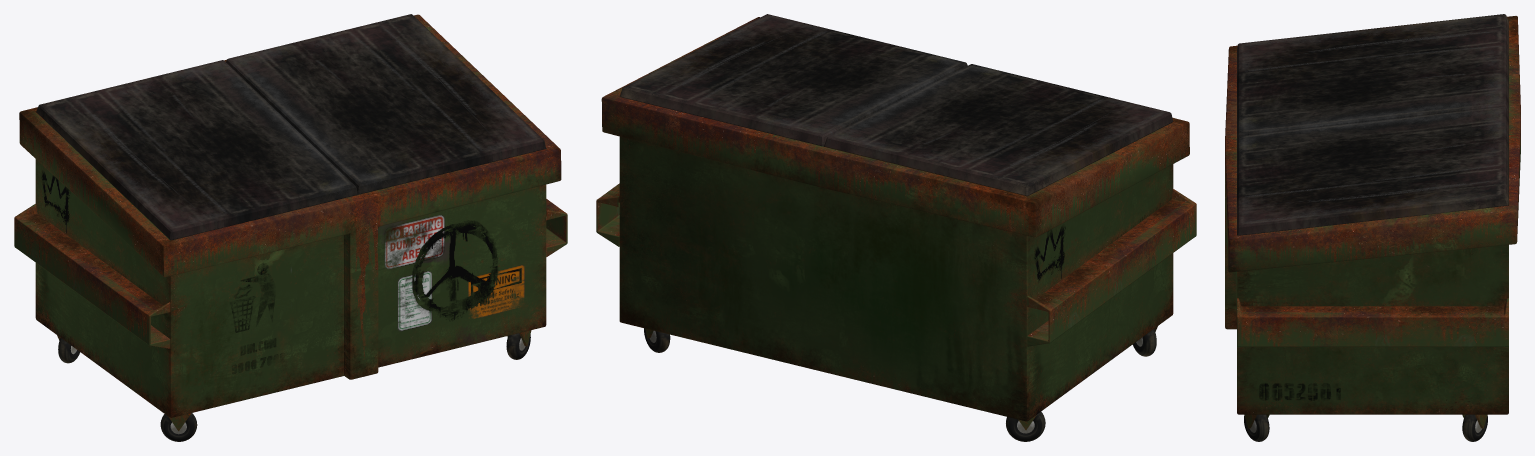
Rendered from GarbageBin.fbx.
3 views of the same model, side by side, from view 1: azimuth 30°, elevation 25°; view 2: azimuth 150°, elevation 25°; view 3: azimuth 270°, elevation 25° (orthographic). The views are drawn at different scales.
Parts seen in each view (by area): view 1: Bin_Body, Bin_Lid, Bin_Sides, Bin_Wheel; view 2: Bin_Body, Bin_Lid, Bin_Sides, Bin_Wheel; view 3: Bin_Lid, Bin_Body, Bin_Sides, Bin_Wheel.
Part boxes in pixels (x1,y1,x2,y2): Bin_Body: (19, 14, 561, 417); Bin_Lid: (36, 14, 545, 240); Bin_Sides: (14, 199, 567, 348); Bin_Wheel: (58, 333, 530, 441); Bin_Body: (601, 17, 1189, 421); Bin_Lid: (620, 14, 1172, 196); Bin_Sides: (596, 183, 1196, 346); Bin_Wheel: (644, 328, 1156, 441); Bin_Lid: (1237, 14, 1508, 235); Bin_Body: (1225, 16, 1520, 414); Bin_Sides: (1237, 298, 1508, 347); Bin_Wheel: (1244, 414, 1487, 441).
Bounding box in the file's own units: 753 × 431 × 458.
